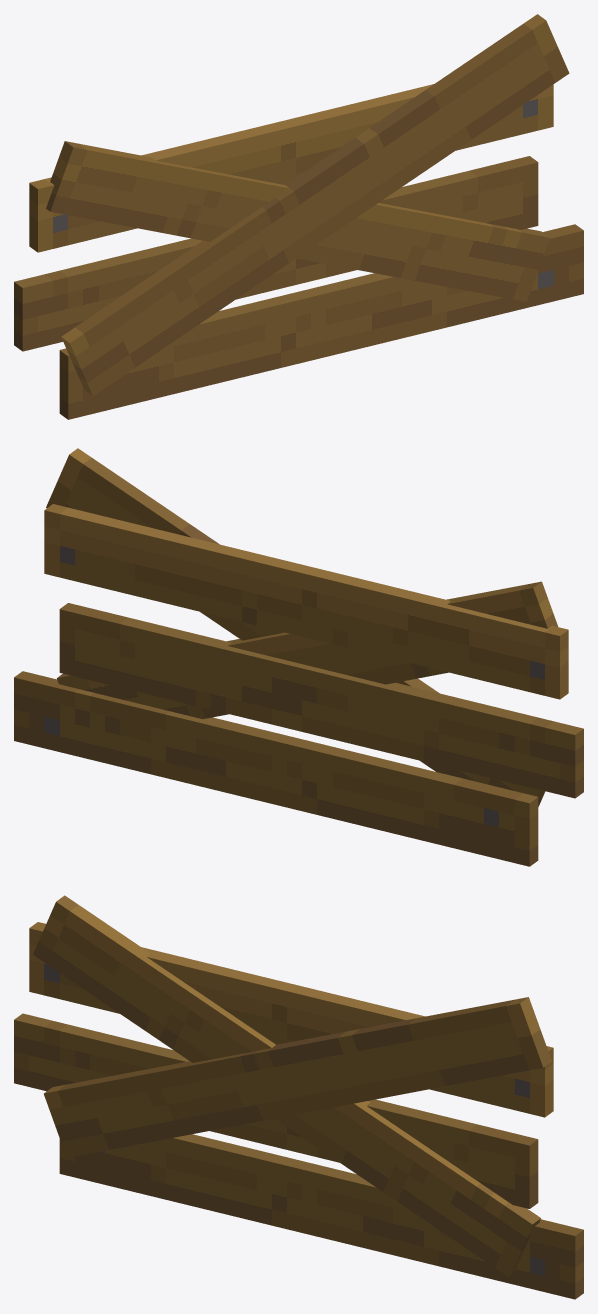
The model's file is wood-barrier.gltf.
3 views of the same model, one above another, from view 1: azimuth 30°, elevation 25°; view 2: azimuth 150°, elevation 25°; view 3: azimuth 330°, elevation 25° (orthographic).
Parts seen in each view (by area): view 1: cube; view 2: cube; view 3: cube.
Part boxes in pixels (x1,y1,x2,y2): cube: [14, 14, 583, 419]; cube: [14, 448, 583, 866]; cube: [14, 895, 583, 1299].
Size of the model in its own units: 2.31 by 1.15 by 0.125.
1 material, 1 textured.
